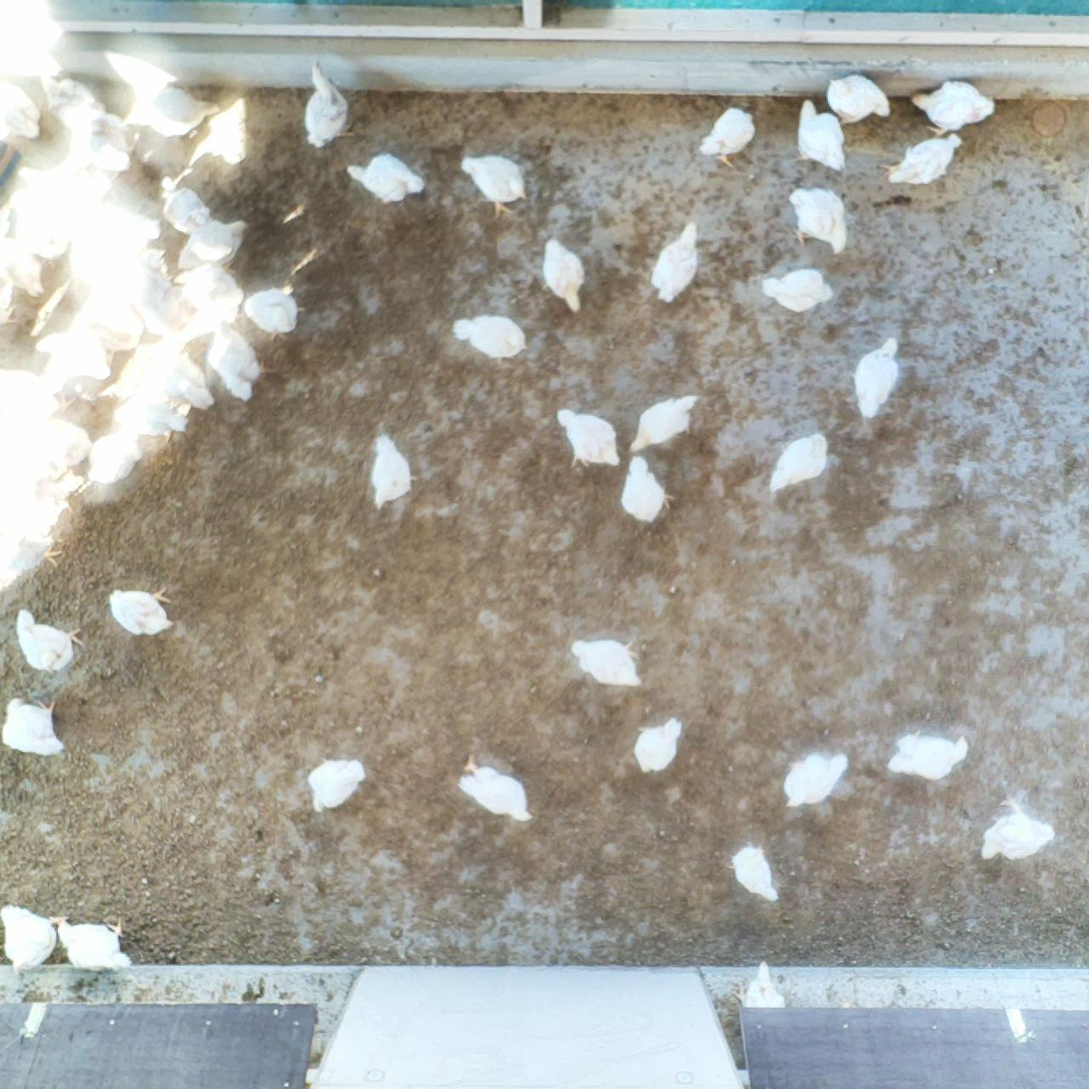chicken: (453, 748, 539, 825), (977, 791, 1058, 865), (907, 74, 998, 139), (123, 83, 221, 142), (300, 58, 357, 151), (13, 606, 86, 678), (882, 725, 971, 783), (877, 132, 964, 190), (84, 287, 147, 367), (846, 336, 903, 423), (56, 913, 138, 973), (459, 151, 530, 220), (647, 219, 703, 306), (171, 260, 244, 326), (626, 391, 701, 454), (344, 150, 428, 206), (788, 184, 852, 257), (568, 633, 647, 692), (364, 430, 422, 510), (211, 329, 272, 405), (48, 309, 112, 381), (792, 97, 851, 174), (450, 310, 531, 366), (142, 353, 217, 413), (697, 103, 762, 172), (0, 900, 58, 977), (553, 406, 621, 471), (19, 161, 109, 210), (618, 454, 676, 528), (766, 430, 831, 495), (0, 363, 73, 420), (2, 693, 66, 758), (537, 233, 587, 316), (81, 203, 164, 252), (7, 187, 66, 255), (782, 750, 851, 808), (757, 264, 833, 316), (177, 219, 251, 271), (244, 284, 307, 345), (823, 72, 894, 126), (724, 838, 781, 905), (304, 755, 369, 813), (108, 584, 176, 639), (40, 70, 109, 124), (69, 110, 135, 166), (111, 392, 191, 436), (29, 413, 91, 468), (86, 430, 143, 489), (729, 959, 791, 1013), (0, 73, 47, 144), (632, 714, 684, 777), (0, 524, 64, 573), (0, 236, 47, 299), (158, 174, 209, 231), (123, 265, 177, 318), (3, 480, 68, 523), (73, 247, 128, 295)
